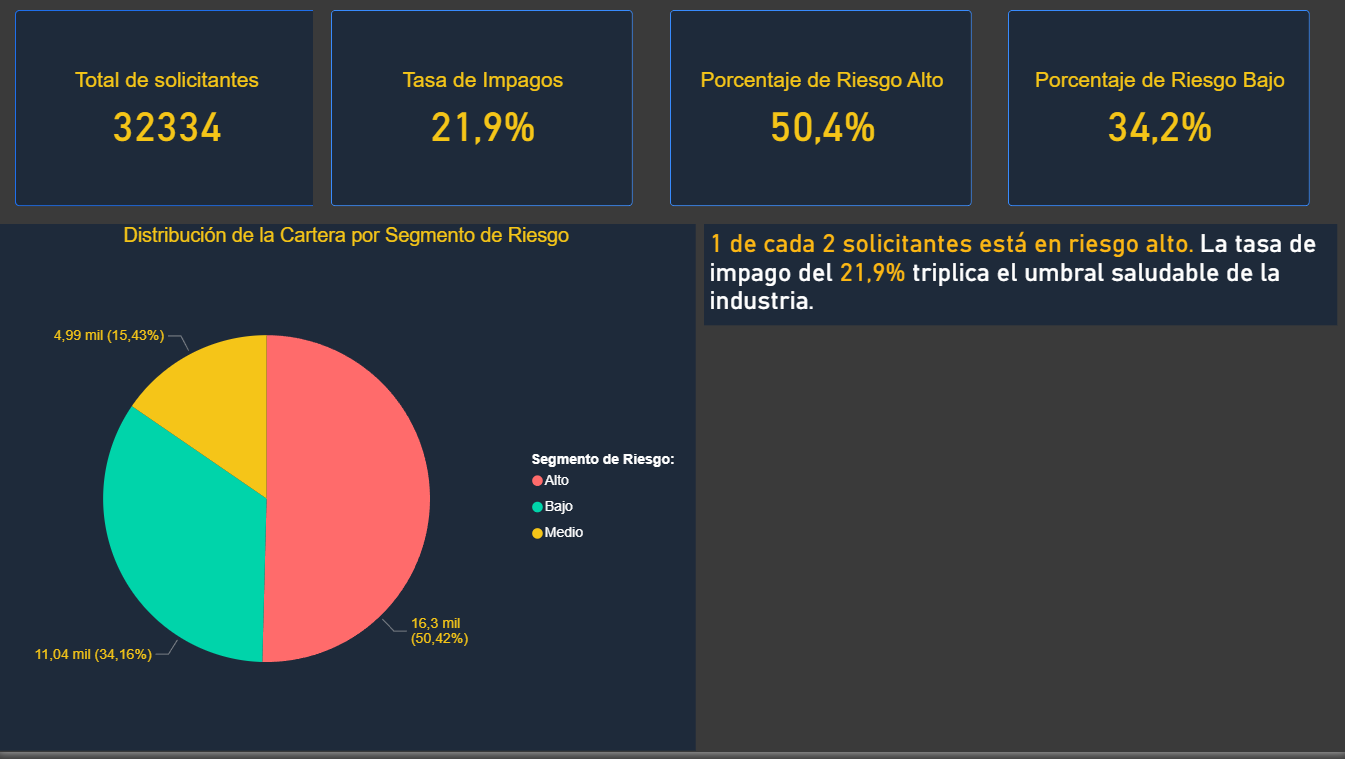

The dashboard page shown, as its layout file describes it:
{"tool":"powerbi","page":{"name":"Resumen","canvas":[1280,720],"ordinal":0},"visuals":[{"type":"cardVisual","title":"Total de Solicitantes","fields":{"Data":["Sum(lendsmart v_stg2_loan_applications.total_solicitantes)"]},"box":[0,0,320.5,220.2],"z":0},{"type":"cardVisual","title":"Total de Solicitantes","fields":{"Data":["lendsmart v_stg2_loan_applications.tasaImpago"]},"box":[299.8,0,320.5,220.2],"z":1000},{"type":"cardVisual","fields":{"Data":["lendsmart v_stg2_loan_applications.pctAltoRiesgo"]},"box":[620.4,0,320.5,220.2],"z":2000},{"type":"cardVisual","fields":{"Data":["lendsmart v_stg2_loan_applications.pctRiesgoBajo"]},"box":[940.9,0,320.5,220.2],"z":3000},{"type":"pieChart","title":"Distribución de la Cartera por Segmento de Riesgo","fields":{"Category":["lendsmart stg2_loan_applications.segmento_riesgo"],"Y":["CountNonNull(lendsmart stg2_loan_applications.id)"]},"box":[0,220.2,661.8,499.4],"z":3001},{"type":"textbox","box":[670,220,599.7,95.9],"z":3002}]}

Visuals, with their boxes in screenshot pixels (x1, y1, x2, y2), scaled from the page's 1280x720 canvas onto the 1345x759 screenshot:
"Total de Solicitantes" cardVisual: left=0, top=0, right=337, bottom=232
"Total de Solicitantes" cardVisual: left=315, top=0, right=652, bottom=232
cardVisual - lendsmart v_stg2_loan_applications.pctAltoRiesgo: left=652, top=0, right=989, bottom=232
cardVisual - lendsmart v_stg2_loan_applications.pctRiesgoBajo: left=989, top=0, right=1325, bottom=232
"Distribución de la Cartera por Segmento de Riesgo" pieChart: left=0, top=232, right=695, bottom=758
textbox: left=704, top=232, right=1334, bottom=333
